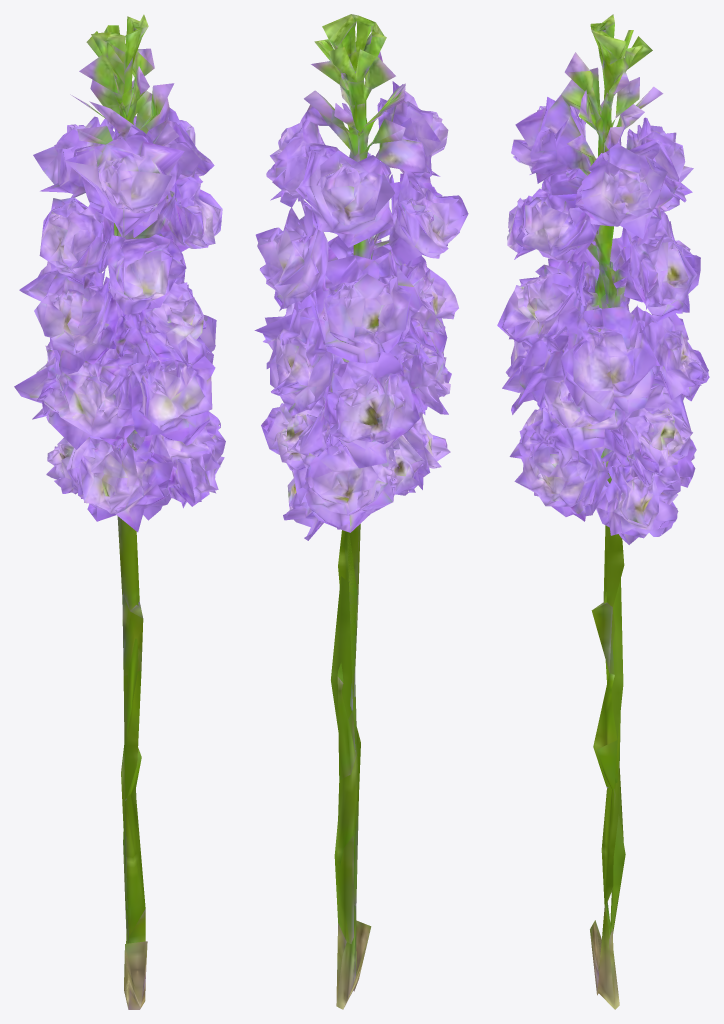
File: stock_in_bloom.glb
3 renders of one model, left to right at view 1: azimuth 30°, elevation 25°; view 2: azimuth 150°, elevation 25°; view 3: azimuth 270°, elevation 25°, orthographic.
Size of the model in its own units: 0.3433 by 1.88 by 0.3718.
Materials: 1 (1 with a texture image).
